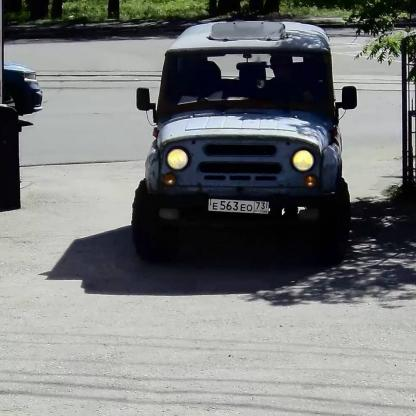plate: (209, 198, 268, 214)
